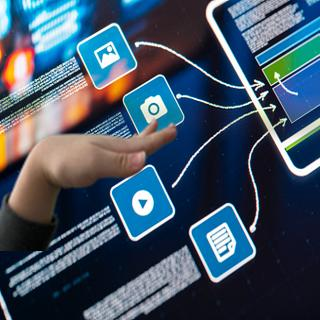Wait: (24, 115, 178, 191)
